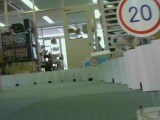speed_20: (116, 1, 160, 37)
